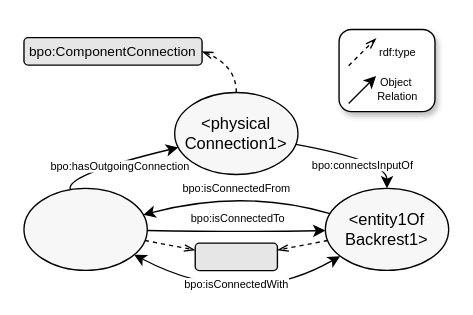
Image size: 473x315. Some labels were removed from this diagram. Each missing label, with the centre of its shape:
"<entity1Of Frame1>" belongs at (85,228).
"bpo:Entity" belongs at (235,256).
